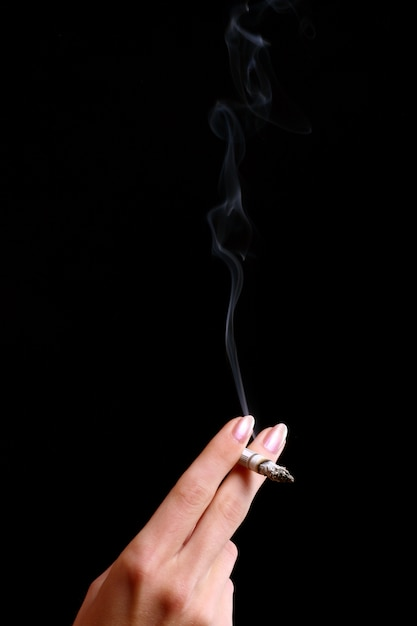cigarette: (238, 443, 293, 486)
